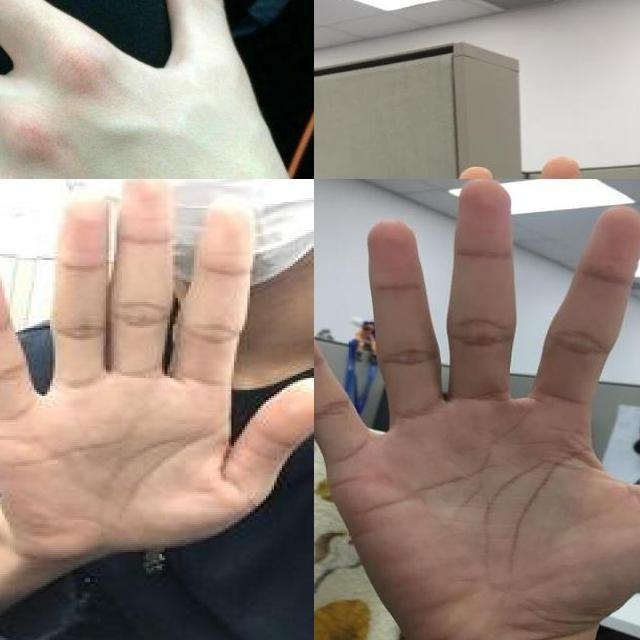hand: (314, 179, 640, 640), (0, 179, 314, 558), (0, 0, 314, 179)
